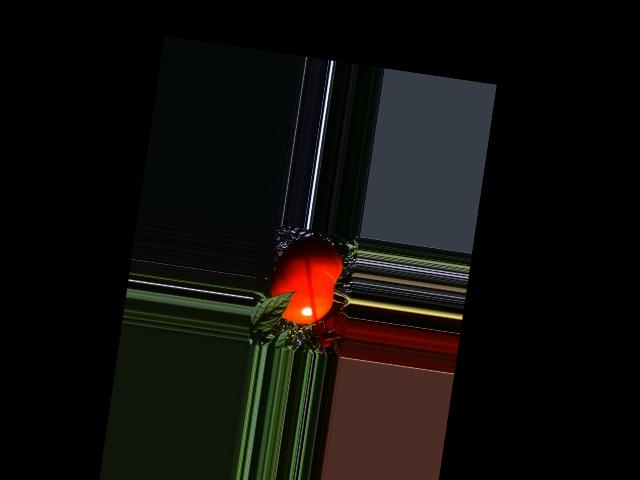tomato: (264, 231, 346, 329)
